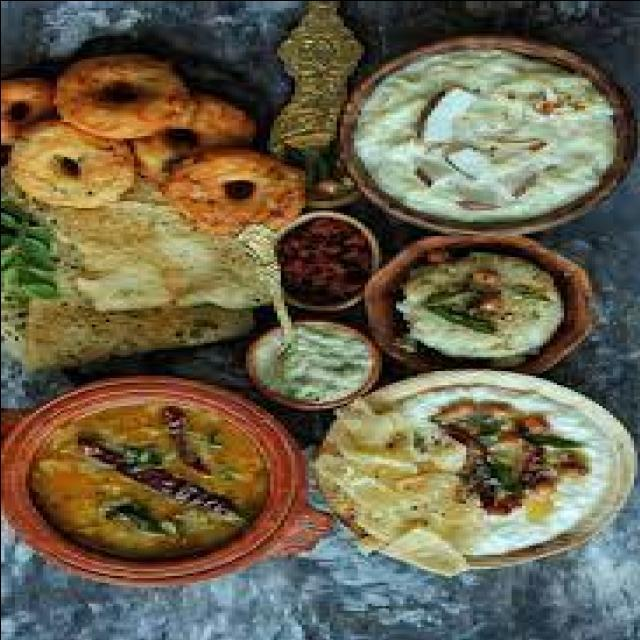papad: (16, 274, 270, 373)
pickle: (266, 214, 376, 307)
raita: (237, 320, 381, 410)
rice: (336, 53, 623, 220)
sweet: (4, 118, 145, 212)
